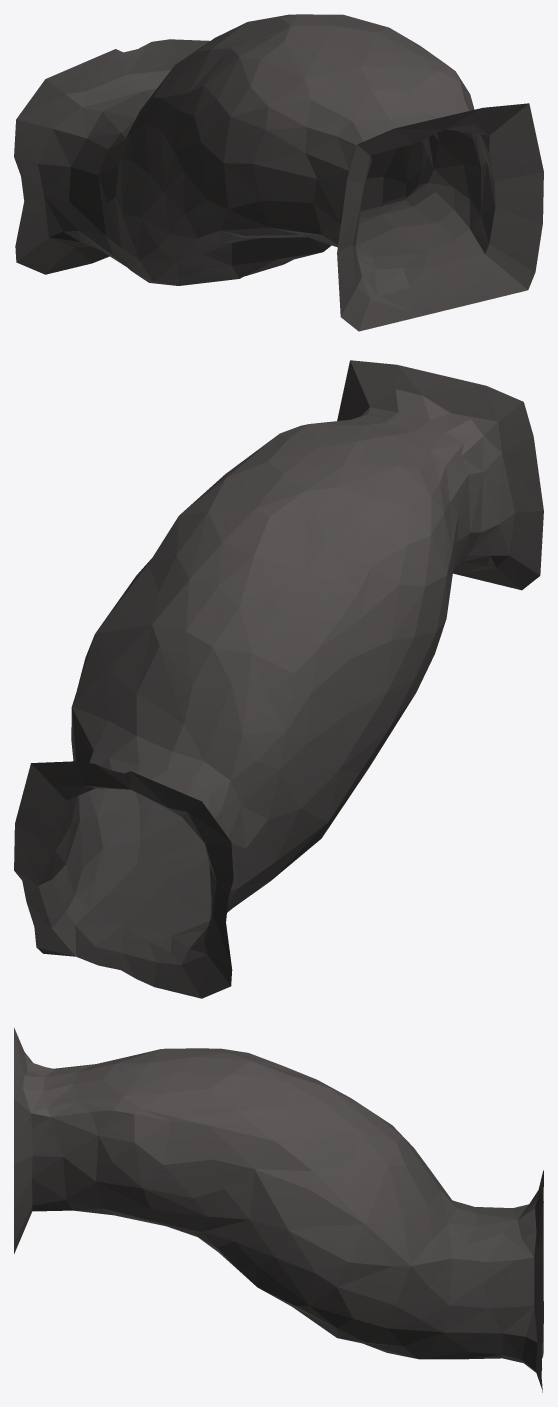
File: ZLP_Cave_B_5.FBX
The picture shows the model from 3 angles, top to bottom: view 1: azimuth 30°, elevation 25°; view 2: azimuth 150°, elevation 25°; view 3: azimuth 270°, elevation 25°; orthographic projection. The views are drawn at different scales.
Parts seen in each view (by area): view 1: ZLP_Cave_B_5; view 2: ZLP_Cave_B_5; view 3: ZLP_Cave_B_5.
Part boxes in pixels (left/top/right/bottom): ZLP_Cave_B_5: left=14, top=14, right=543, bottom=331; ZLP_Cave_B_5: left=14, top=360, right=543, bottom=998; ZLP_Cave_B_5: left=14, top=1027, right=543, bottom=1392.
Bounding box in the file's own units: 813 × 1061 × 1645.
